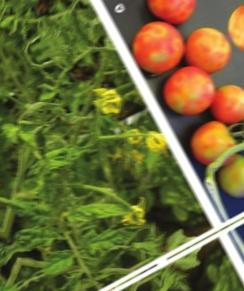Tomato leaf mosaic virus: (65, 189, 126, 238), (80, 216, 142, 263), (6, 215, 59, 262), (35, 243, 81, 282), (50, 269, 95, 291)
